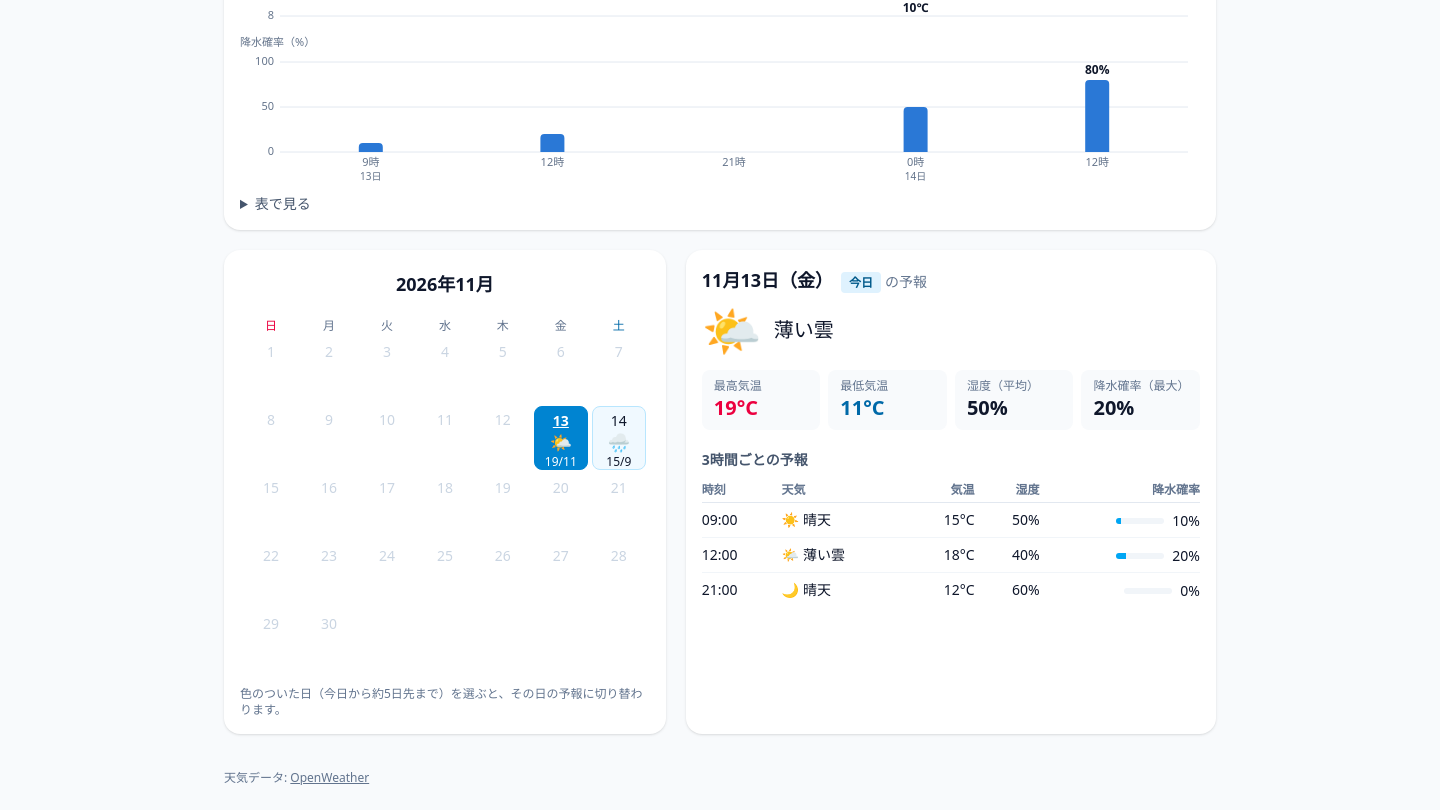
Test: WeatherApp › カレンダーで日付を選ぶと、その日の予報に切り替わる
(page scrolled)
Click the button named "11月14日（土）" at (619, 438), box [592, 406, 646, 470]
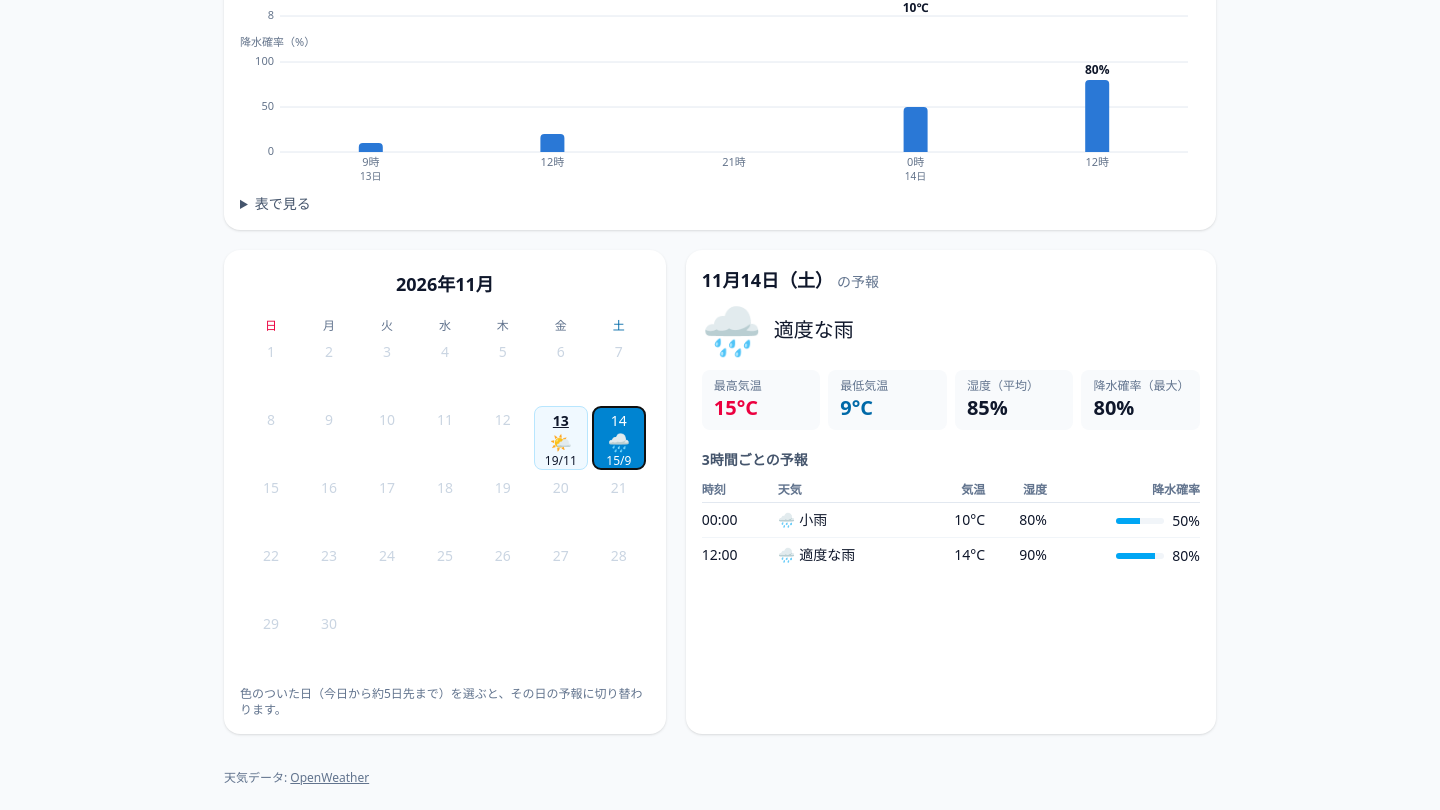
Now the text "適度な雨" is shown, box [774, 316, 854, 344]
Now the text "80%" is shown, box [1094, 394, 1134, 421]
